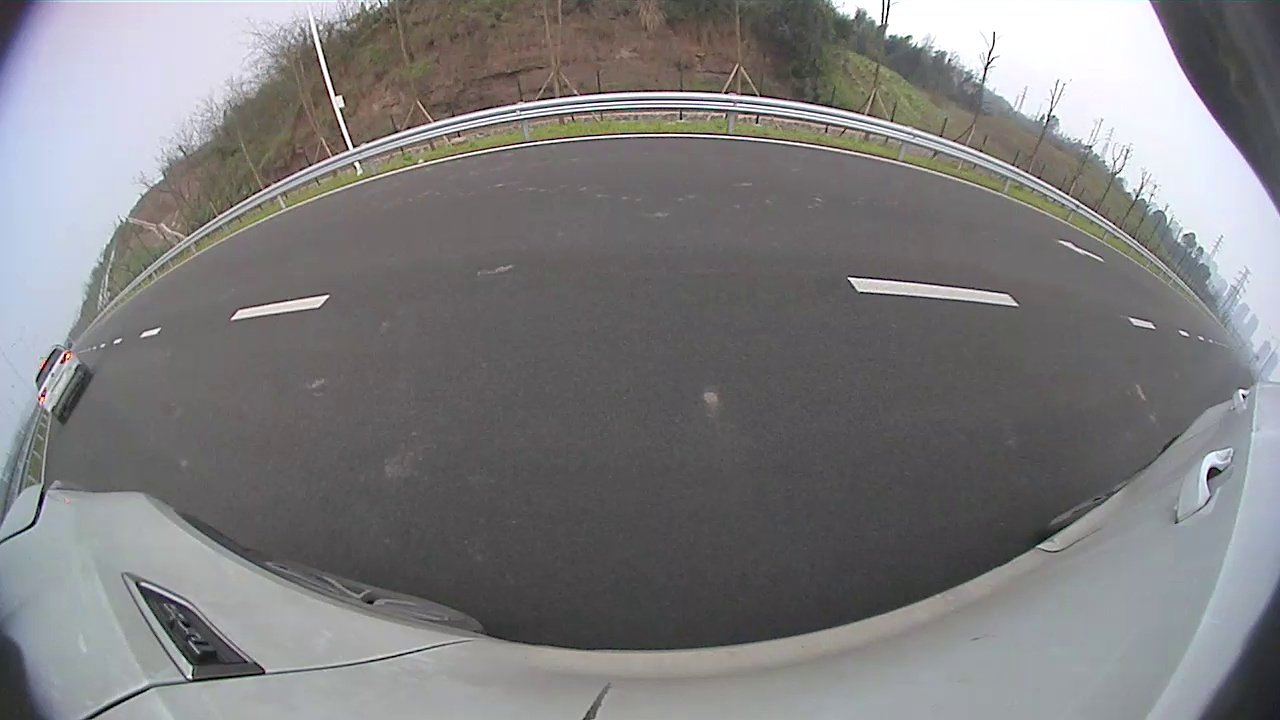car: (706, 149, 770, 197)
rear: (713, 172, 724, 195)
